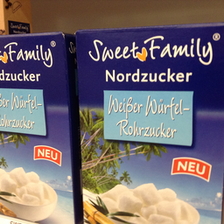sugar: (74, 21, 222, 224), (1, 31, 78, 223)
